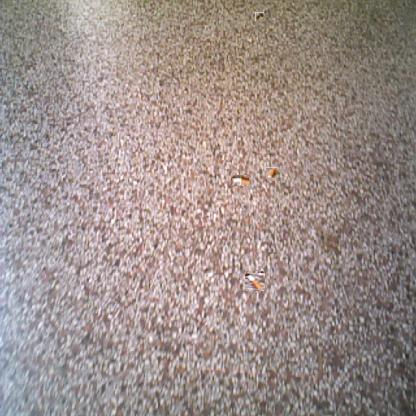dirty: (246, 272, 264, 290), (230, 174, 250, 186), (266, 167, 277, 179), (255, 12, 264, 21)
